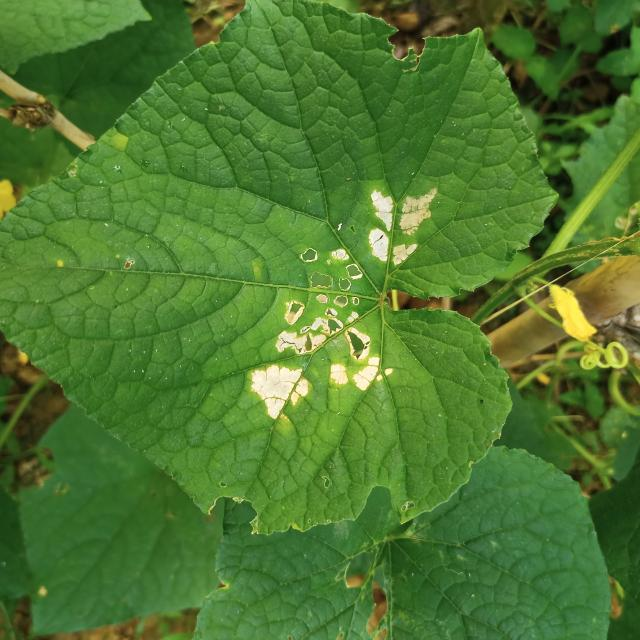disease_cucumber: (244, 241, 399, 426), (361, 180, 440, 278)
